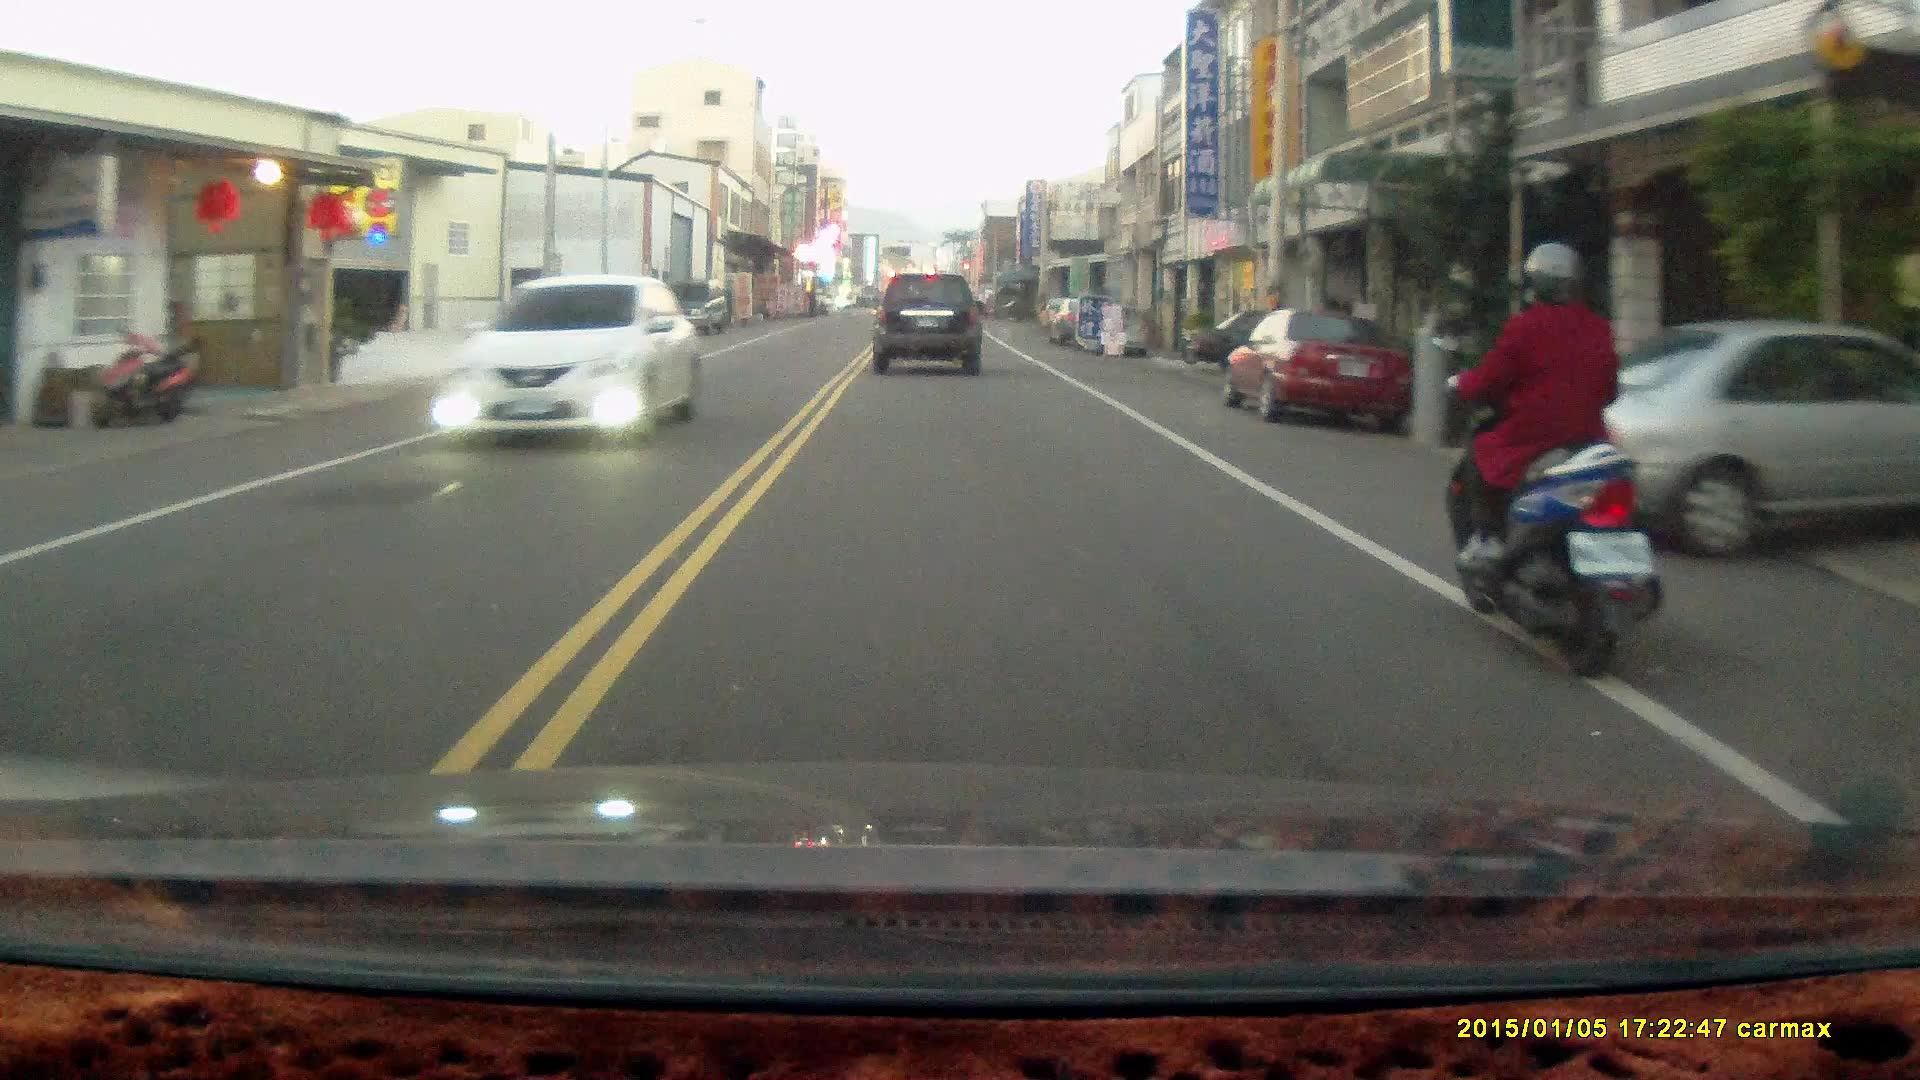rider: (1434, 241, 1669, 690)
vehicle: (1509, 326, 1920, 566), (435, 273, 705, 447), (1221, 308, 1416, 434), (874, 273, 986, 381), (656, 279, 731, 336)
